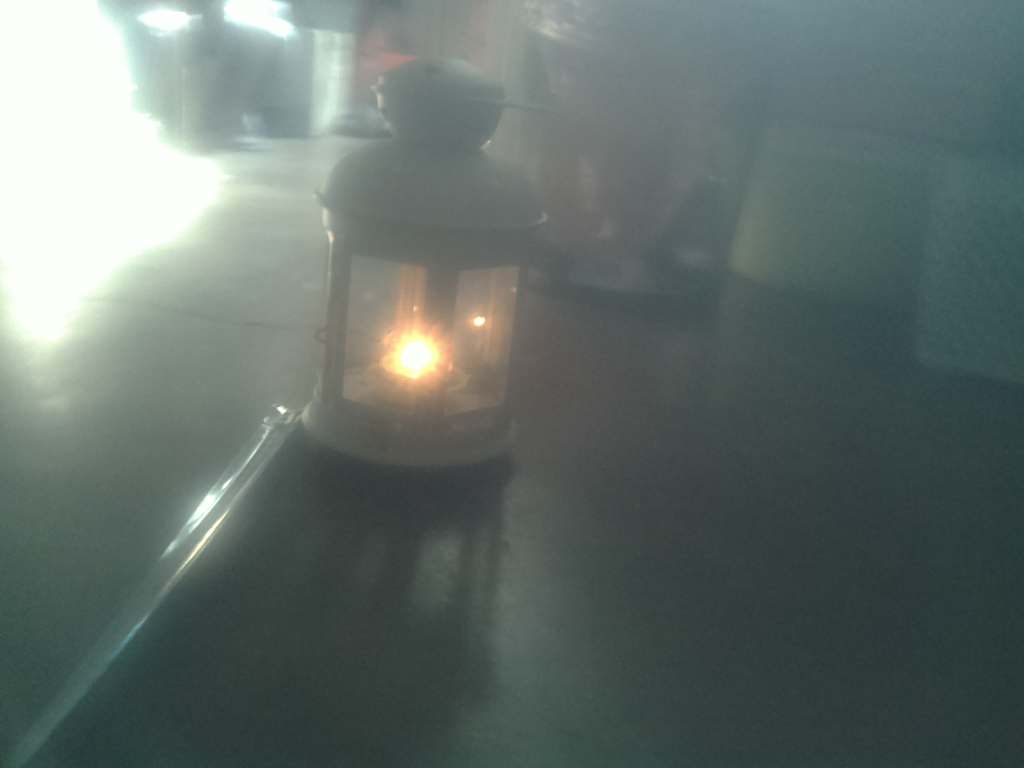fire: (351, 299, 475, 410)
